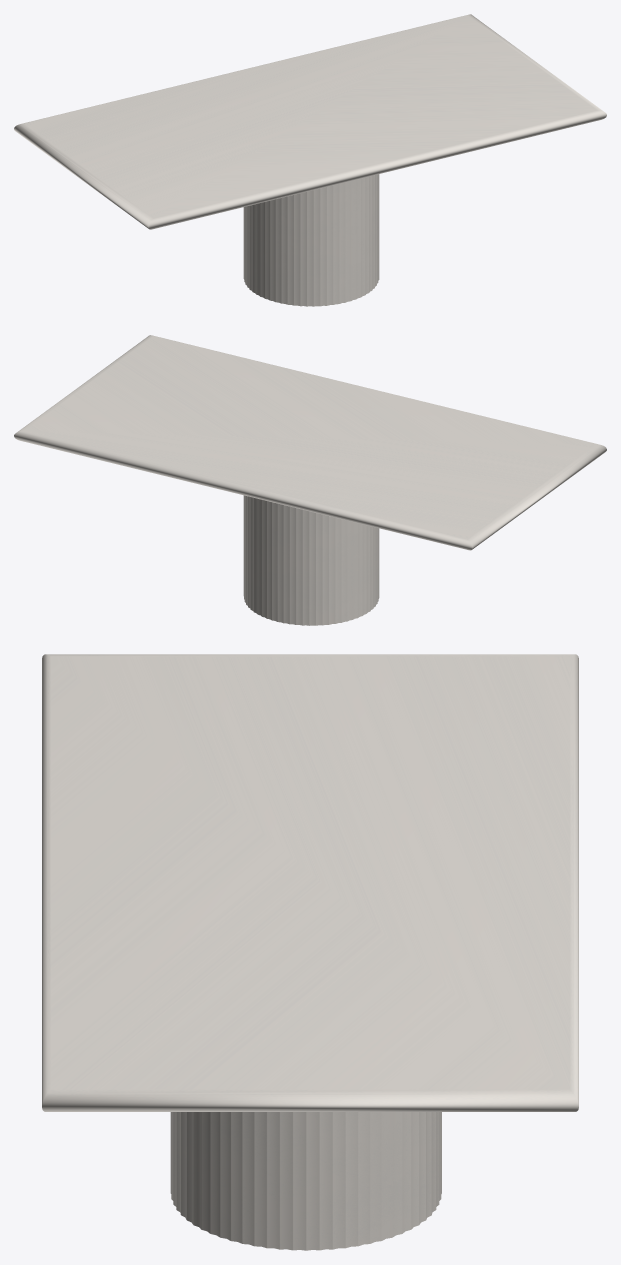
File: pearlwhite_recta_round_ripple.glb
3 views of the same model, one above another, from view 1: azimuth 30°, elevation 25°; view 2: azimuth 150°, elevation 25°; view 3: azimuth 270°, elevation 25° (orthographic). The views are drawn at different scales.
Parts seen in each view (by area): view 1: tabletop_recta_round.002, tableleg_ripple.020; view 2: tabletop_recta_round.002, tableleg_ripple.020; view 3: tabletop_recta_round.002, tableleg_ripple.020.
Boxes of the visible parts, <box> form: tabletop_recta_round.002: <box>14,14,606,229</box>; tableleg_ripple.020: <box>243,174,379,306</box>; tabletop_recta_round.002: <box>14,335,606,550</box>; tableleg_ripple.020: <box>243,495,379,625</box>; tabletop_recta_round.002: <box>42,654,578,1111</box>; tableleg_ripple.020: <box>170,1112,441,1250</box>.
Size of the model in its own units: 7.5 by 2.5 by 3.8.
1 material, 1 textured.
